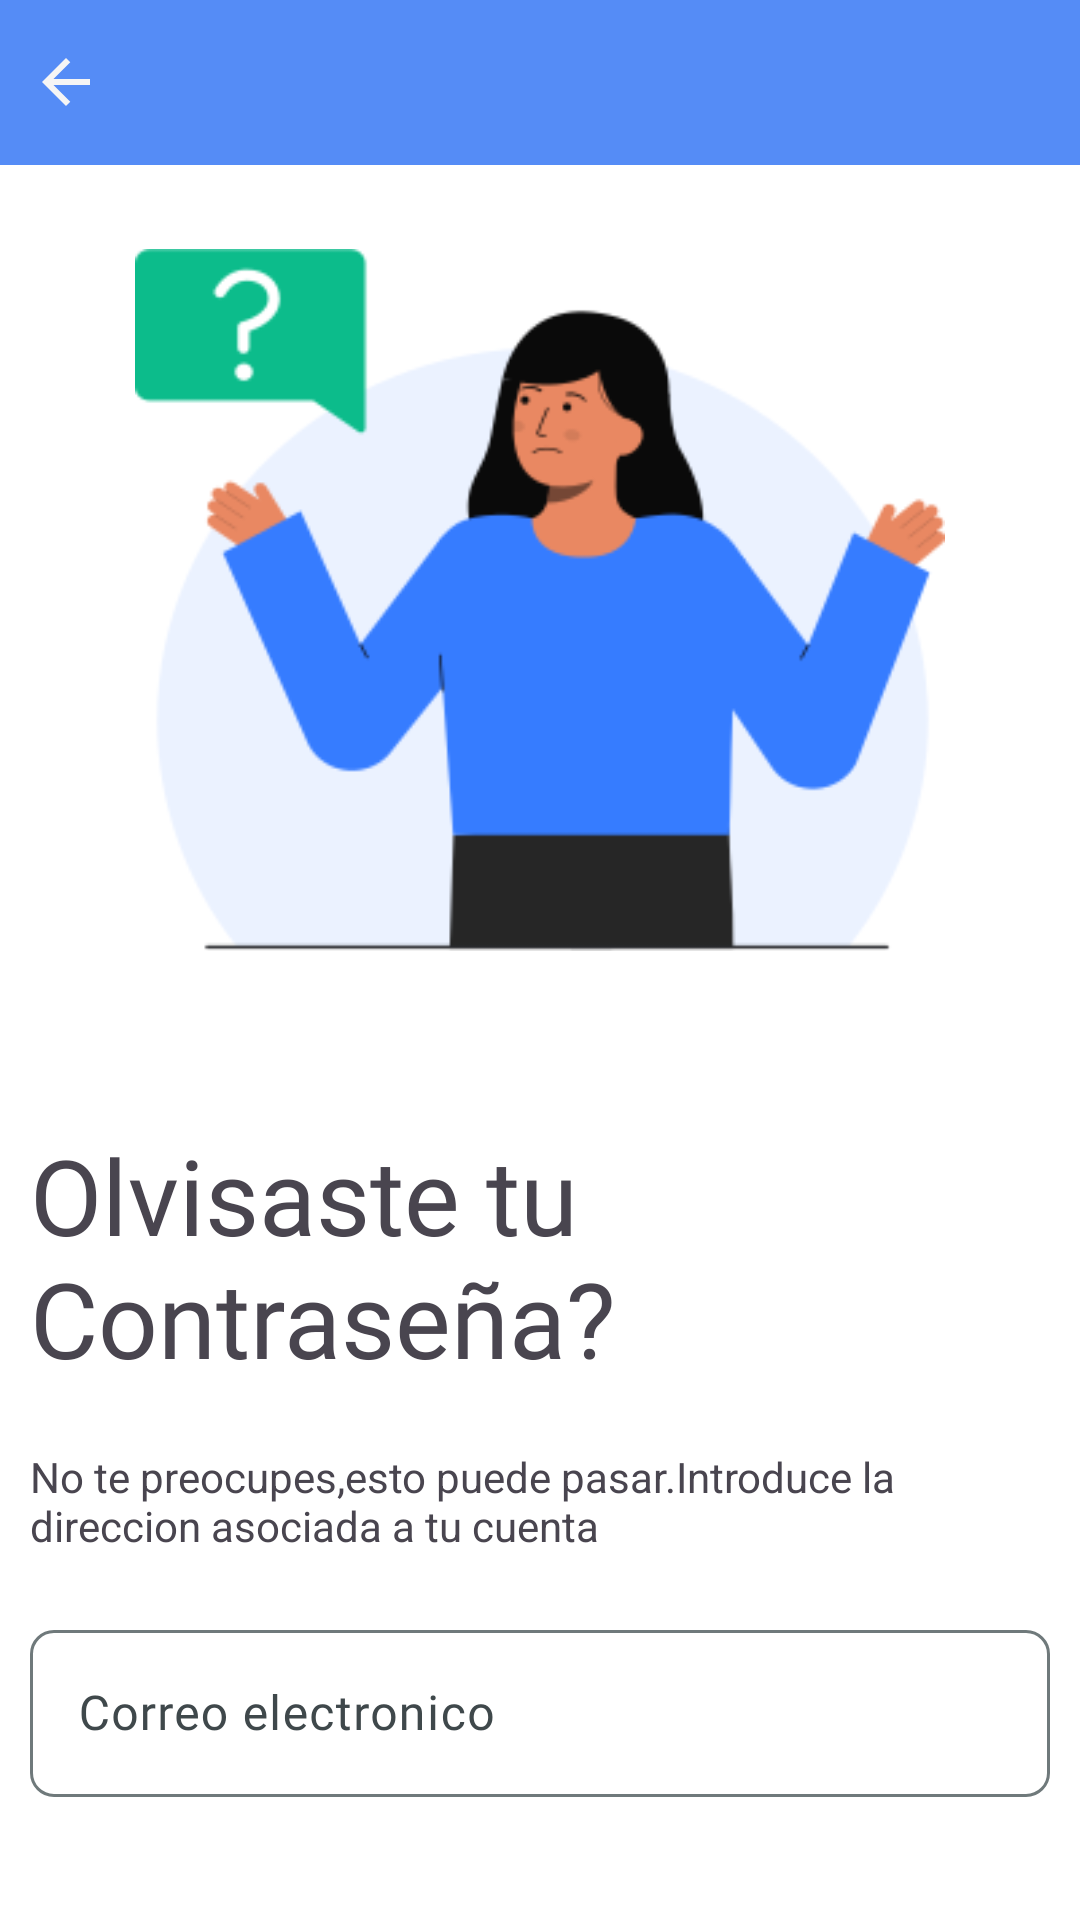

Screen size 1080x1920. Icon name, then its center in pixels as [x,y]:
back: [66,82]
